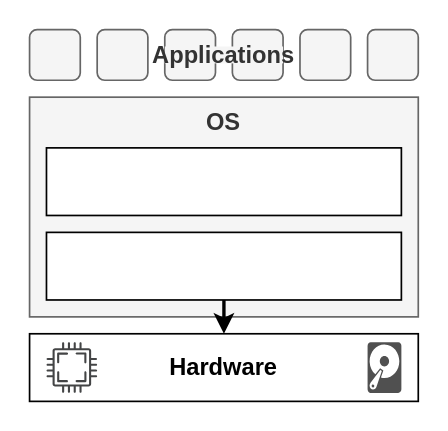
This 448x431 diagram has some shape labels left out. The shapes that lost their labels are listed below. From the top down, each one's centre as x and y in pixels, then its label:
point 223,180: Applications Layer
point 223,265: Kernel
